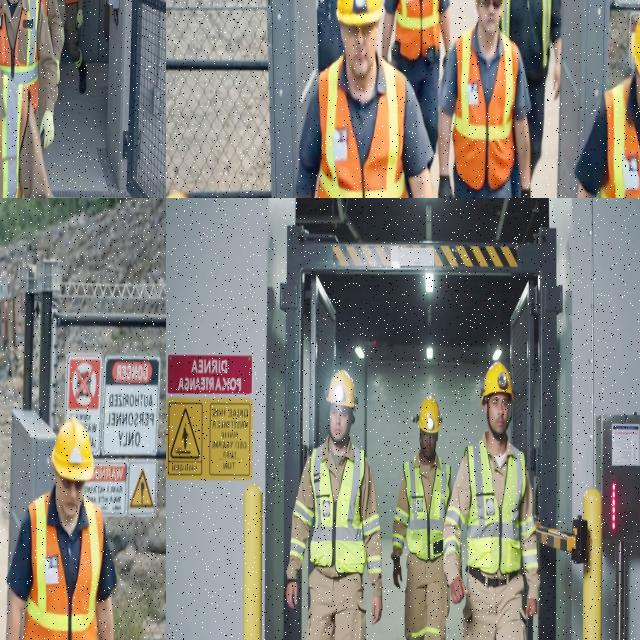Vest: (317, 58, 406, 197), (22, 494, 102, 639), (452, 30, 517, 189), (465, 441, 524, 574), (310, 445, 365, 574), (403, 456, 449, 560), (599, 79, 639, 197), (0, 0, 39, 111), (0, 75, 25, 197), (395, 0, 438, 60), (541, 0, 551, 67), (40, 0, 47, 17), (65, 0, 77, 4)
Worker: (295, 0, 433, 197), (443, 363, 538, 639), (286, 370, 381, 639), (6, 418, 115, 639), (438, 0, 529, 197), (391, 396, 450, 639), (575, 14, 639, 197), (382, 0, 450, 153), (501, 0, 560, 176), (0, 0, 57, 147), (0, 72, 51, 197), (316, 0, 342, 72), (65, 0, 85, 93), (41, 0, 63, 82), (57, 0, 64, 50), (167, 192, 184, 197)
helmet: (51, 417, 93, 481), (481, 362, 512, 403), (326, 370, 356, 410), (336, 0, 382, 26), (412, 396, 441, 433), (630, 14, 639, 75), (167, 193, 184, 197)
